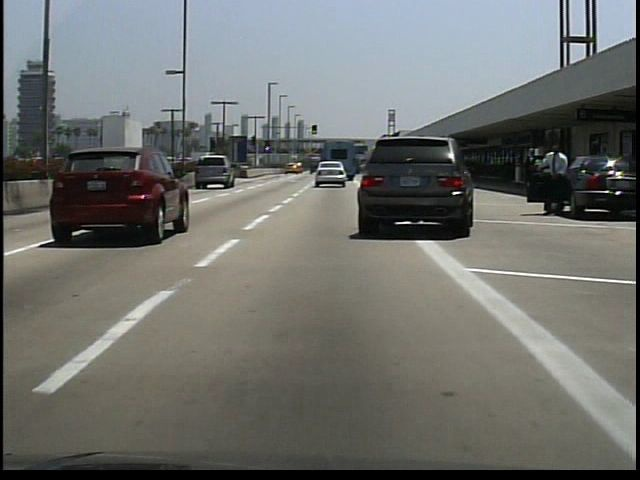person: (531, 139, 570, 220)
